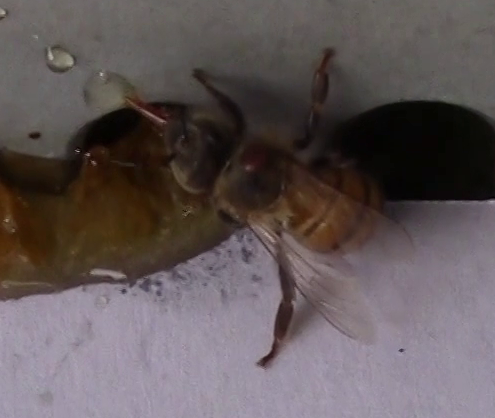Varroa destructor: (235, 142, 272, 175)
